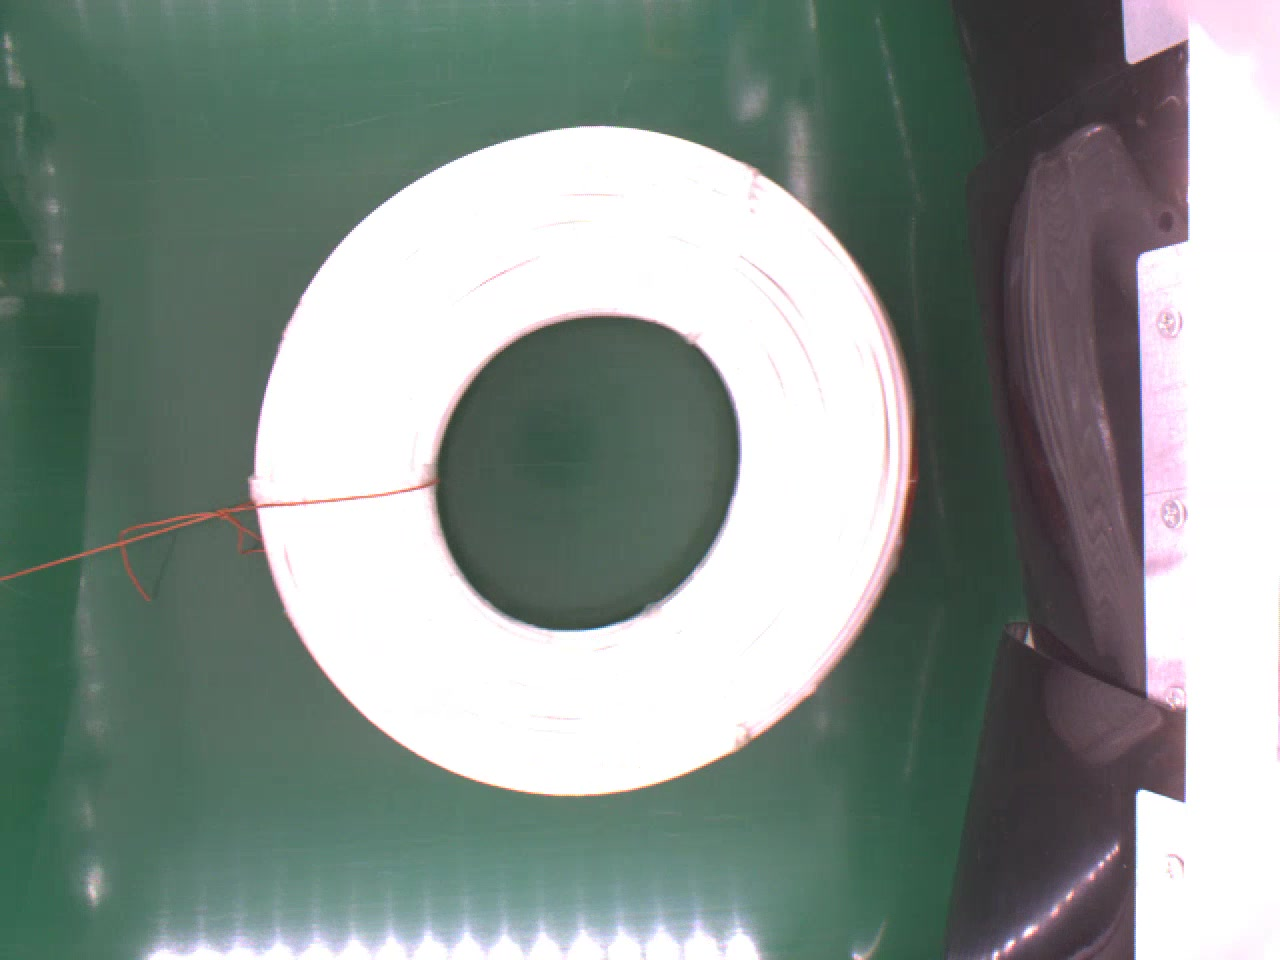white: (250, 121, 913, 800)
